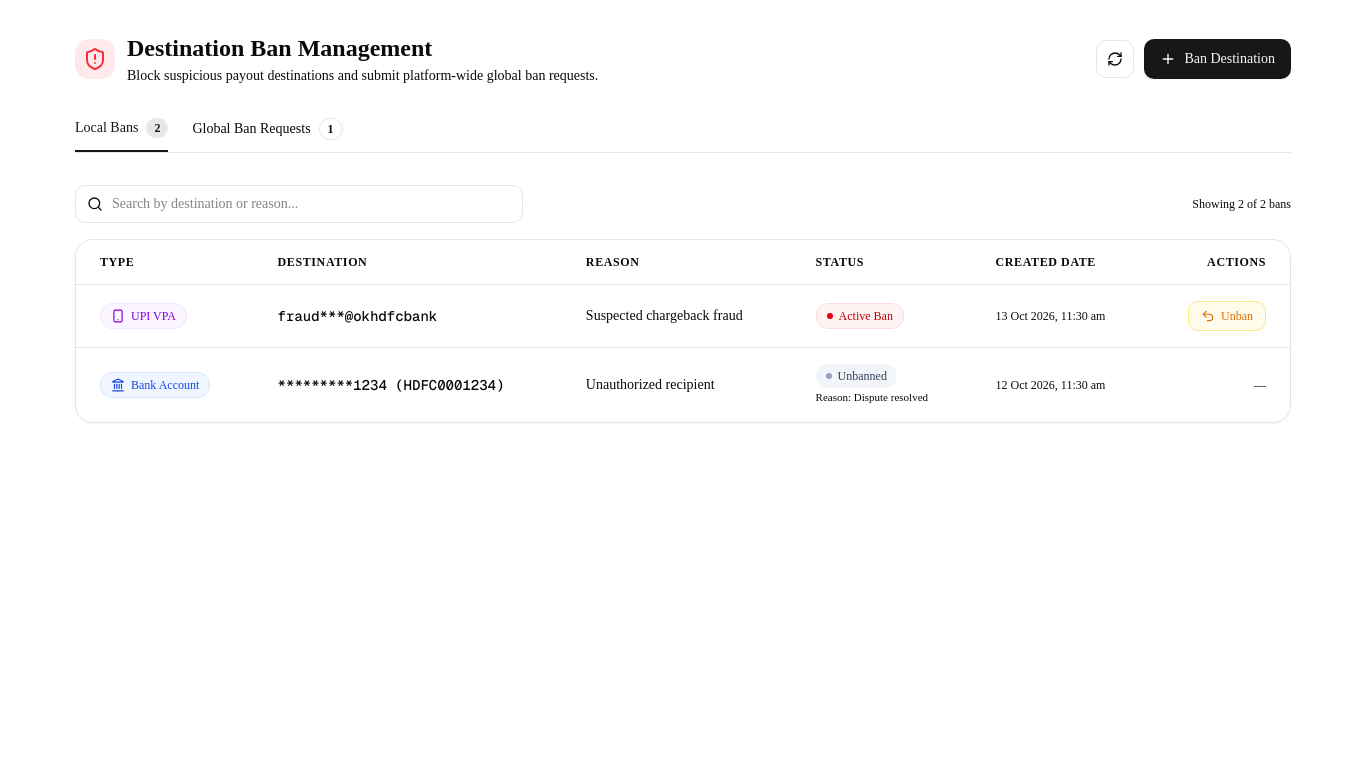
Test case: Merchant & Admin Bans UI Test Suite › Merchant Bans Management UI › displays fetched local bans and allows opening unban modal
The image size is (1366, 768).
Check: the text "fraud***@okhdfcbank" is shown, box [278, 306, 437, 326]
Check: the text "Suspected chargeback fraud" is shown, box [562, 284, 792, 348]
// Click Unban button
Click the button "Unban": (1227, 316) [1188, 301, 1266, 331]
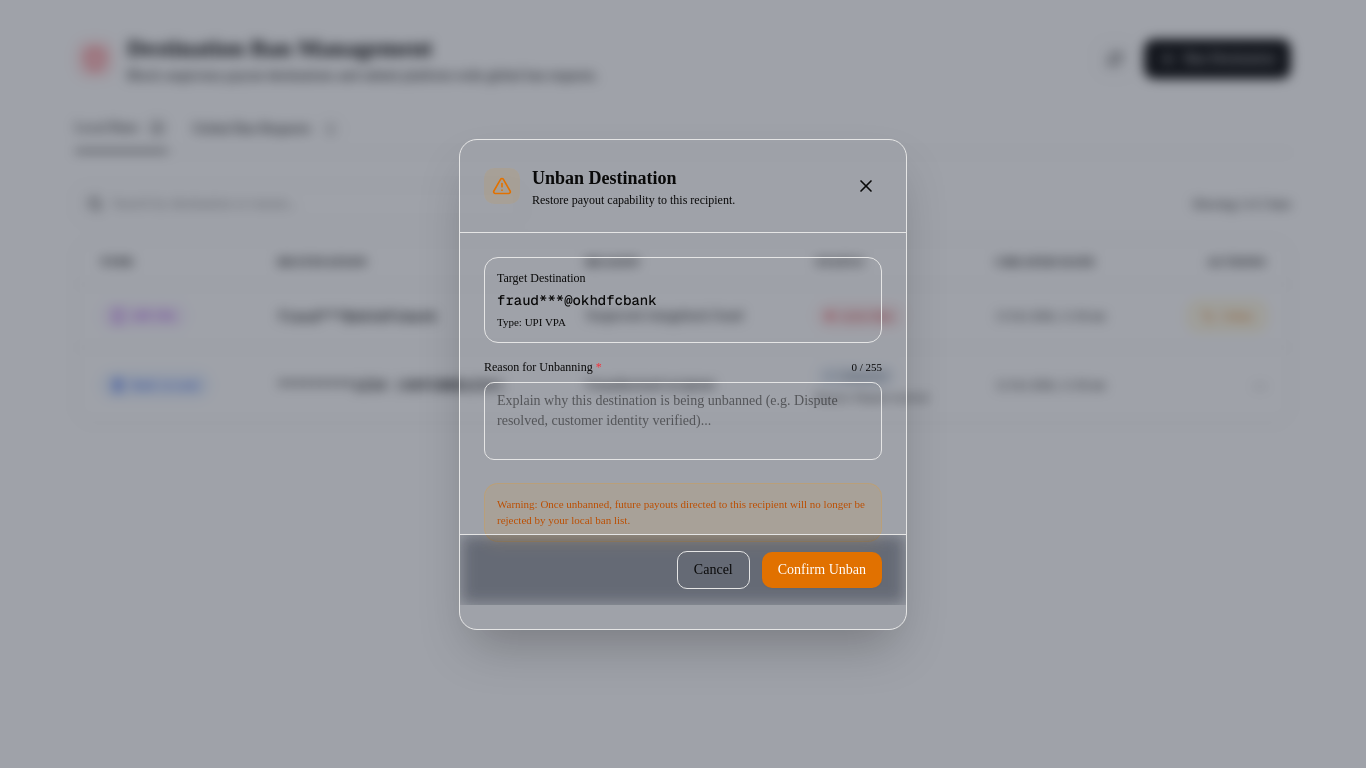
Check: the heading "Unban Destination" is shown, box [532, 168, 676, 188]
Check: the text box with placeholder "Explain why this destination is being unbanned" is shown, box [484, 382, 882, 460]
